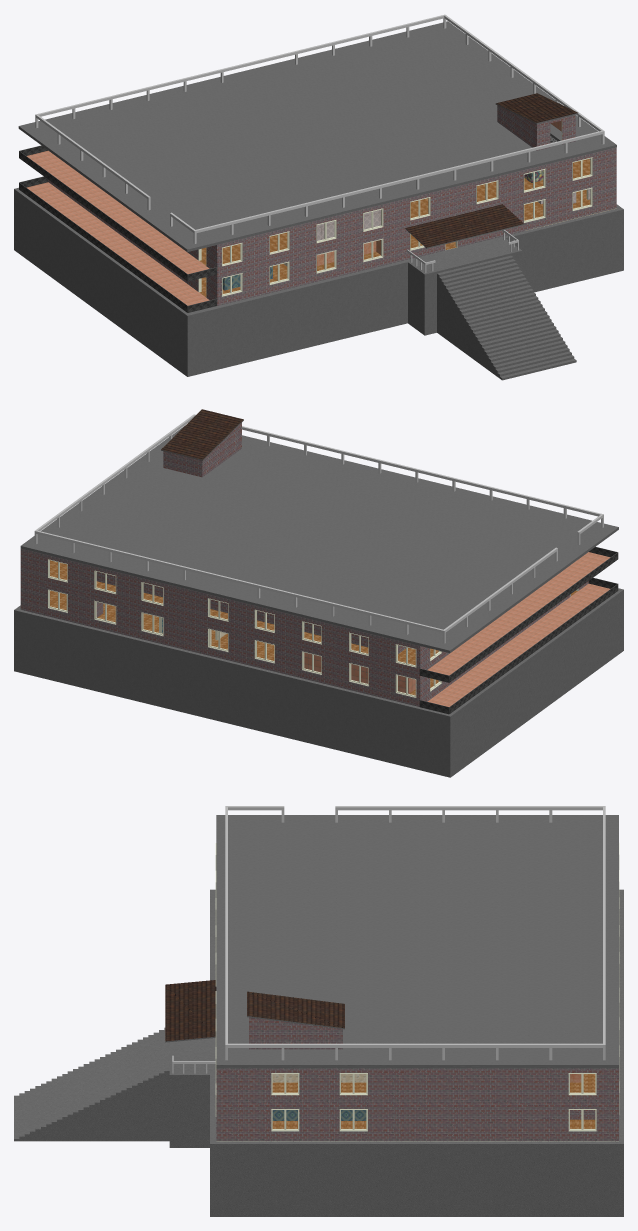
Rendered from labirint.FBX.
The picture shows the model from 3 angles, top to bottom: view 1: azimuth 30°, elevation 25°; view 2: azimuth 150°, elevation 25°; view 3: azimuth 270°, elevation 25°; orthographic projection. The views are drawn at different scales.
Visible parts, largest first — view 1: Box08; view 2: Box08; view 3: Box08.
Part boxes in pixels (x1=…): Box08: x1=14, y1=14, x2=623, y2=380; Box08: x1=14, y1=409, x2=623, y2=777; Box08: x1=14, y1=806, x2=623, y2=1216.
Size of the model in its own units: 44.78 by 15.08 by 45.43.
